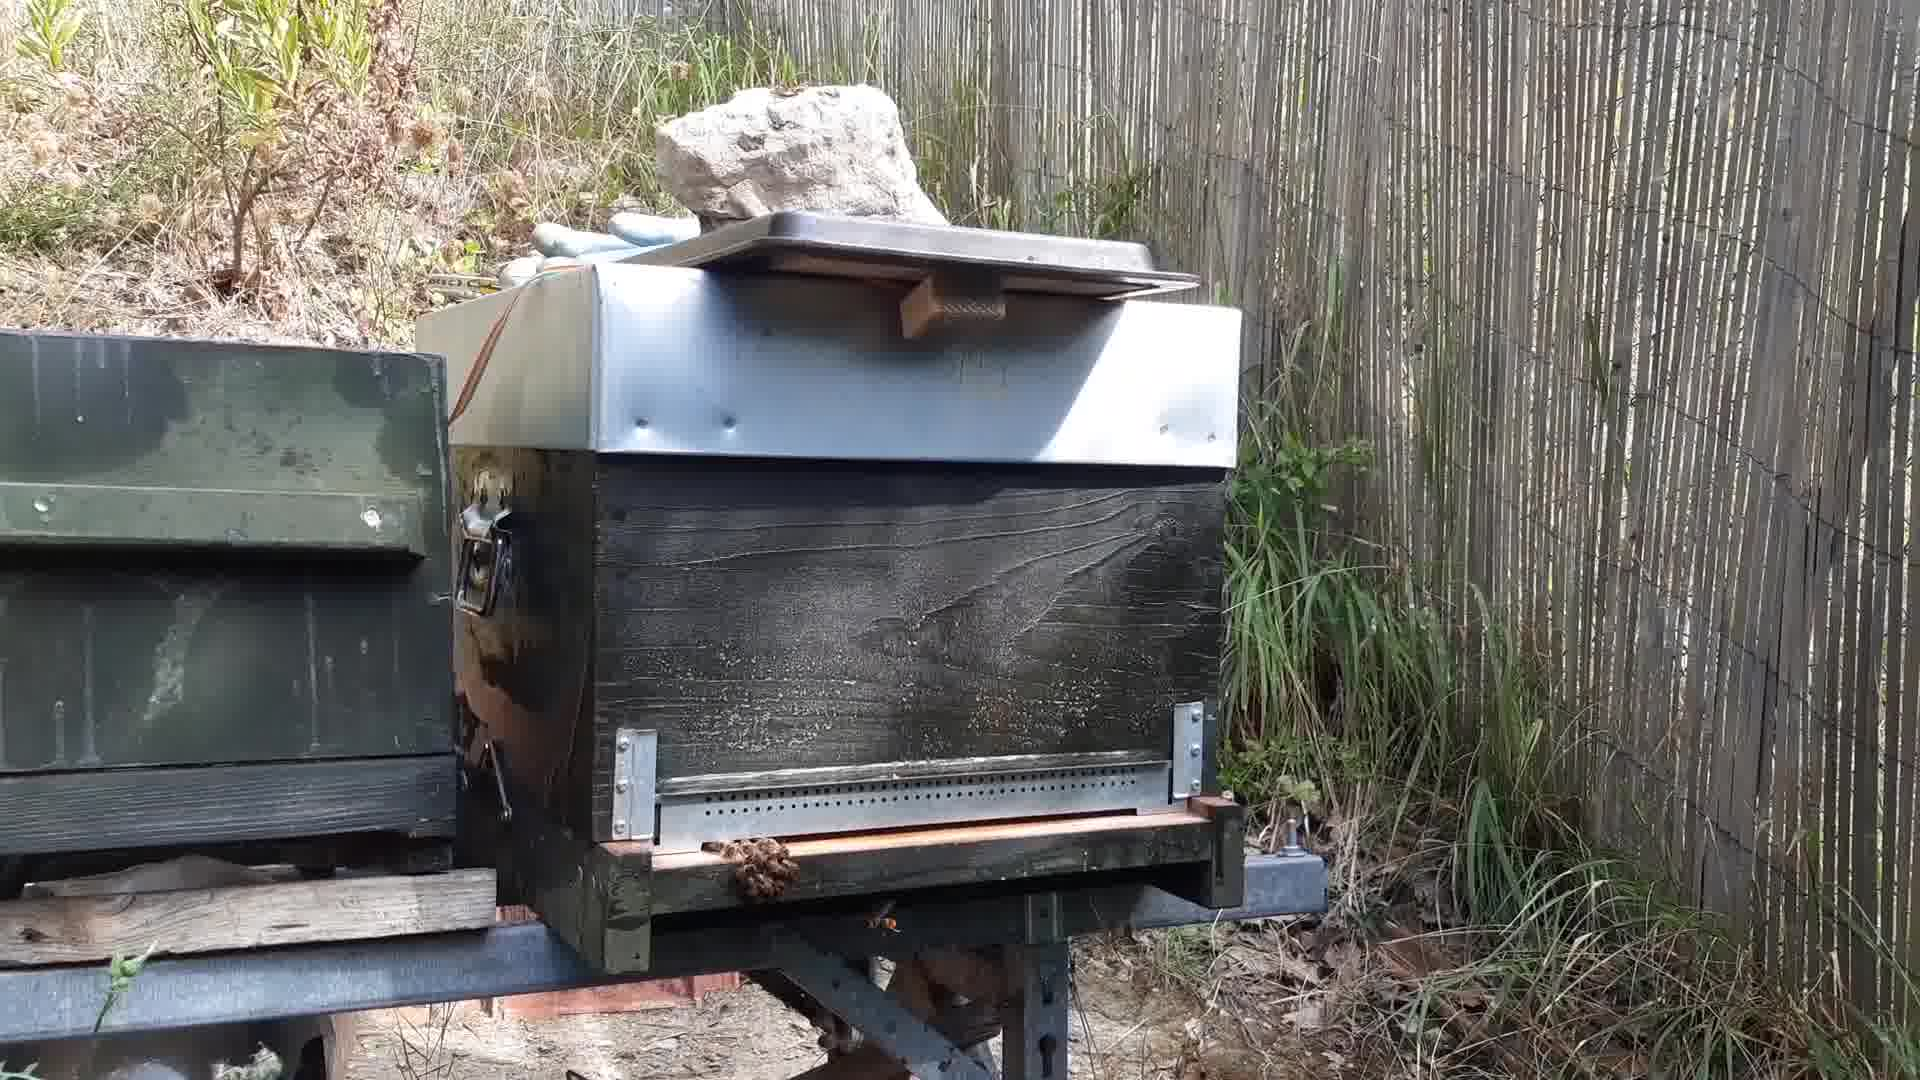bee: (729, 833, 798, 901)
hornet: (857, 911, 905, 938)
